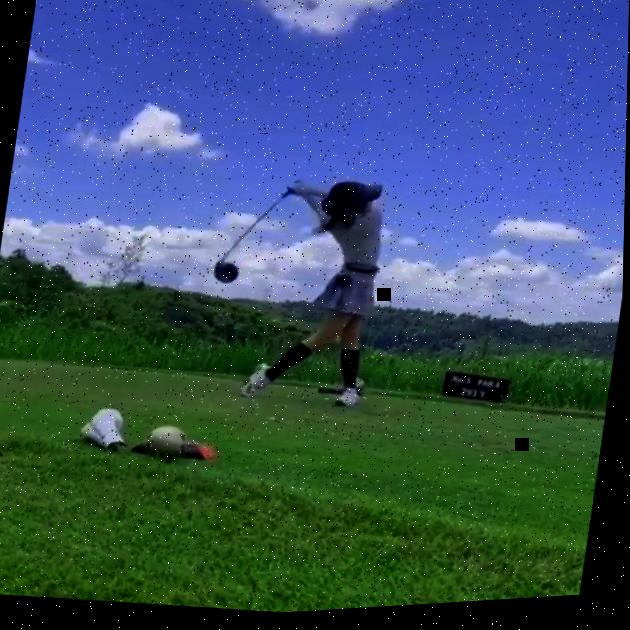ClubHead: (214, 263, 241, 288)
